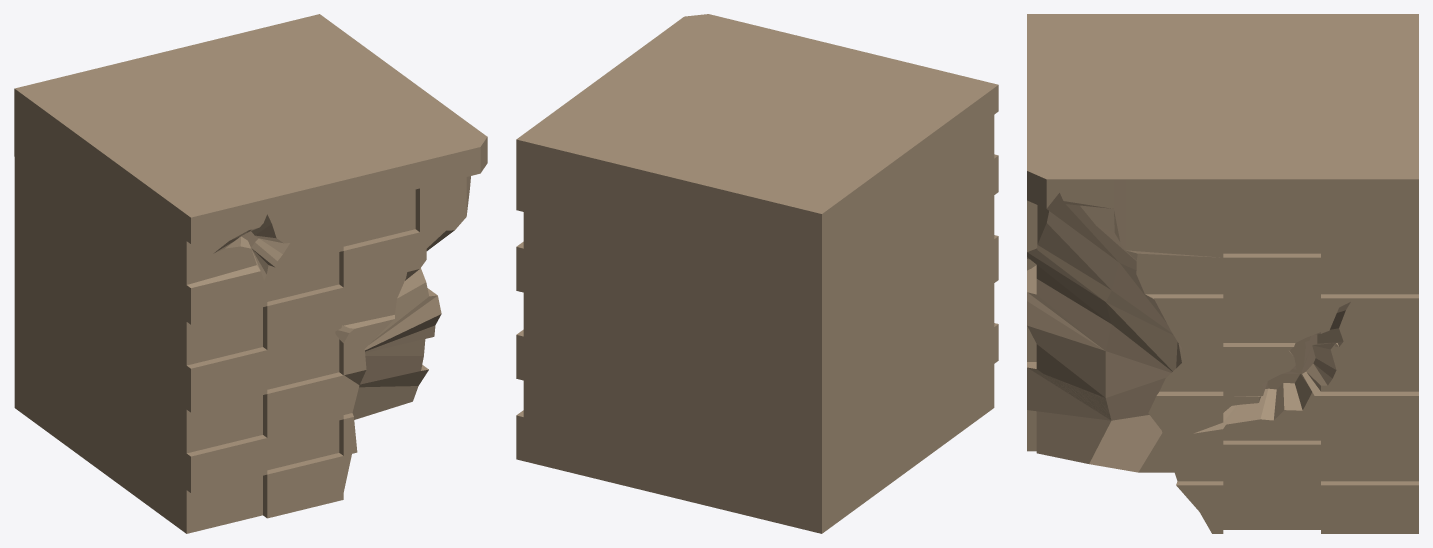
The model's file is cornerBlock_broken2.fbx.
The picture shows the model from 3 angles, left to right: view 1: azimuth 30°, elevation 25°; view 2: azimuth 150°, elevation 25°; view 3: azimuth 270°, elevation 25°; orthographic projection. The views are drawn at different scales.
Visible parts, largest first — view 1: cornerBlock_broken2; view 2: cornerBlock_broken2; view 3: cornerBlock_broken2.
Part boxes in pixels (<box>): cornerBlock_broken2: <box>14,14,487,533</box>; cornerBlock_broken2: <box>516,14,998,533</box>; cornerBlock_broken2: <box>1027,14,1418,533</box>.
Bounding box in the file's own units: 400 × 400 × 400.
